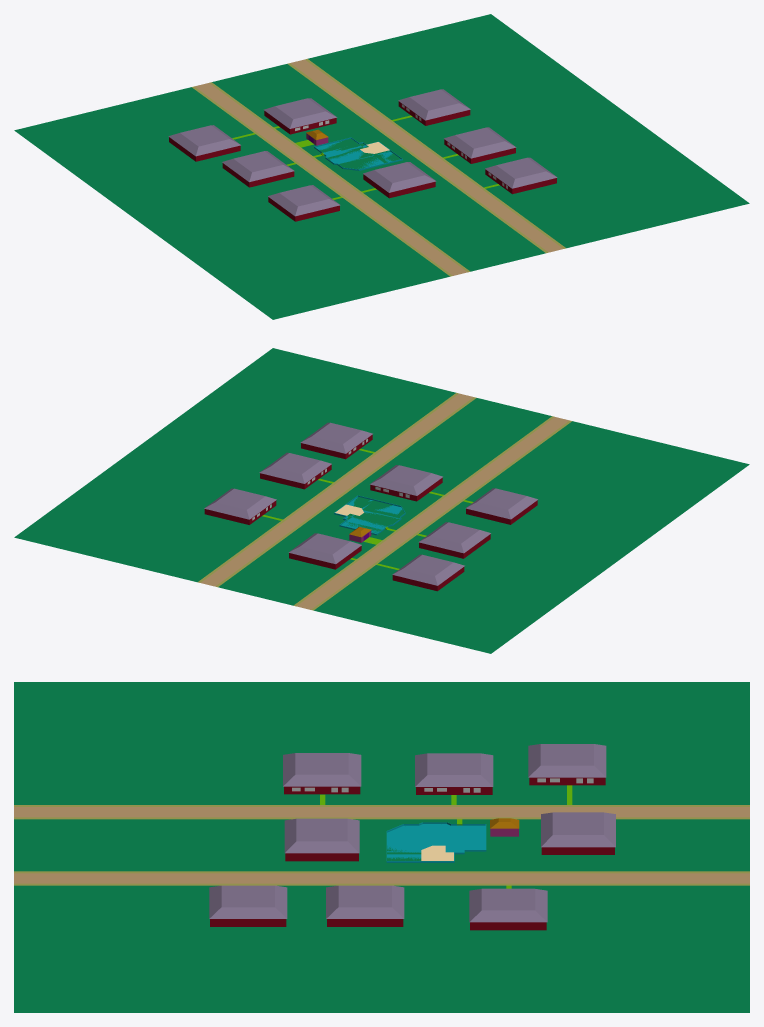
The model's file is NewHouseOutside.fbx.
3 renders of one model, top to bottom at view 1: azimuth 30°, elevation 25°; view 2: azimuth 150°, elevation 25°; view 3: azimuth 270°, elevation 25°, orthographic. The views are drawn at different scales.
Parts seen in each view (by area): view 1: polySurface131; view 2: polySurface131; view 3: polySurface131.
Part boxes in pixels (<box>): polySurface131: <box>14,14,749,319</box>; polySurface131: <box>14,348,749,653</box>; polySurface131: <box>14,682,749,1012</box>.
Bounding box in the file's own units: 290722 × 6196 × 273331.
